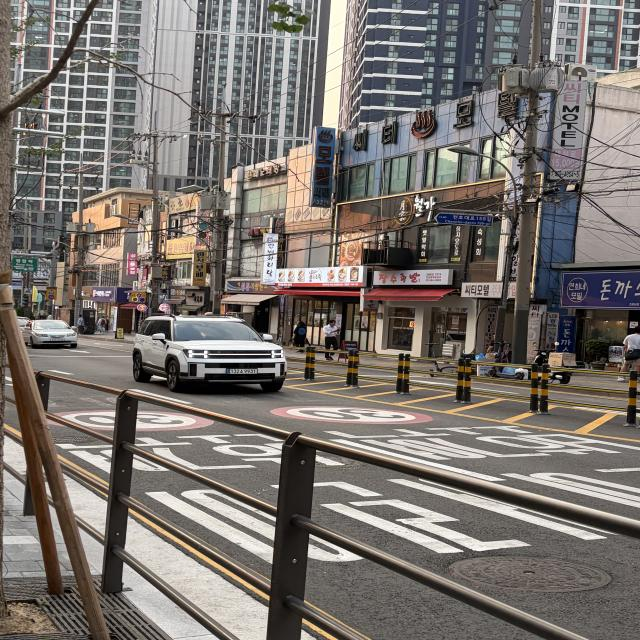car: (114, 303, 308, 411), (18, 314, 95, 359)
